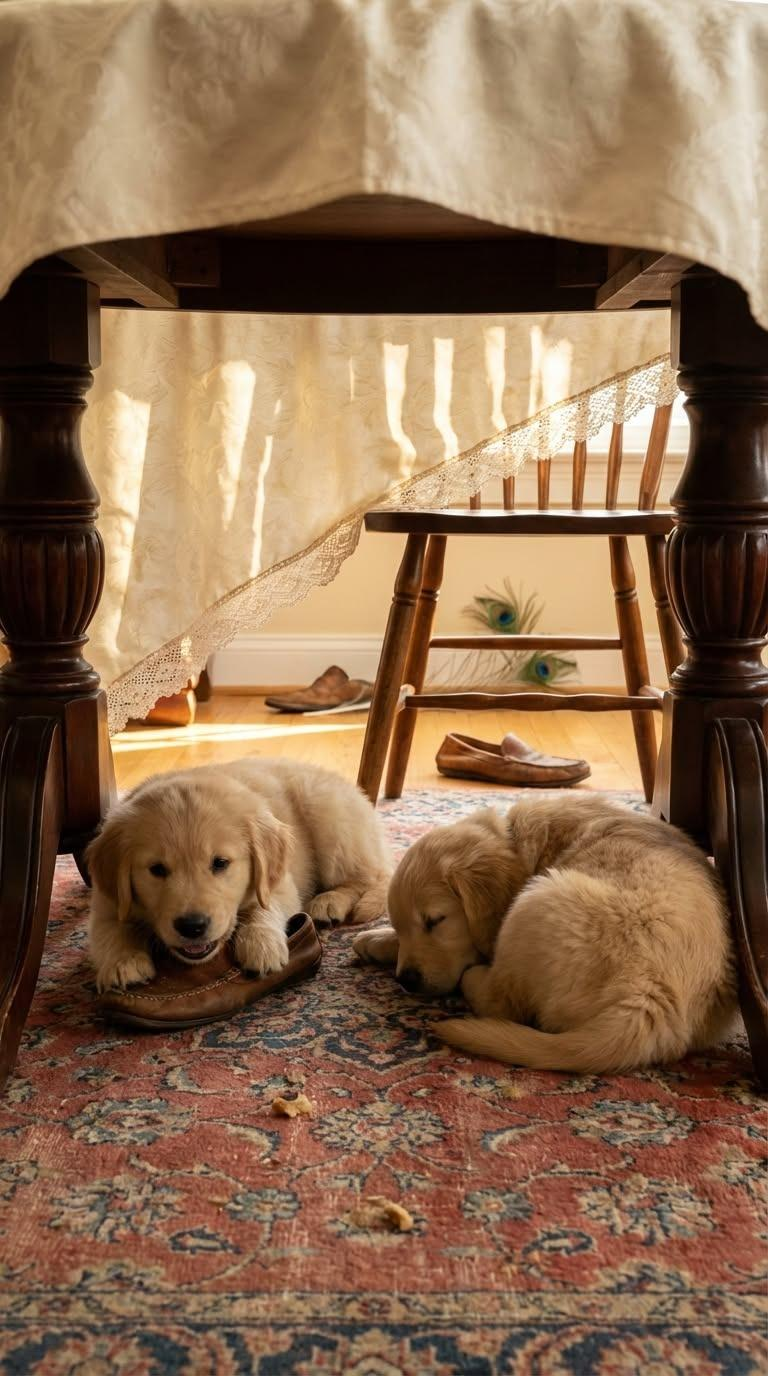puppy-dog: (352, 793, 736, 1075), (82, 759, 391, 991)
